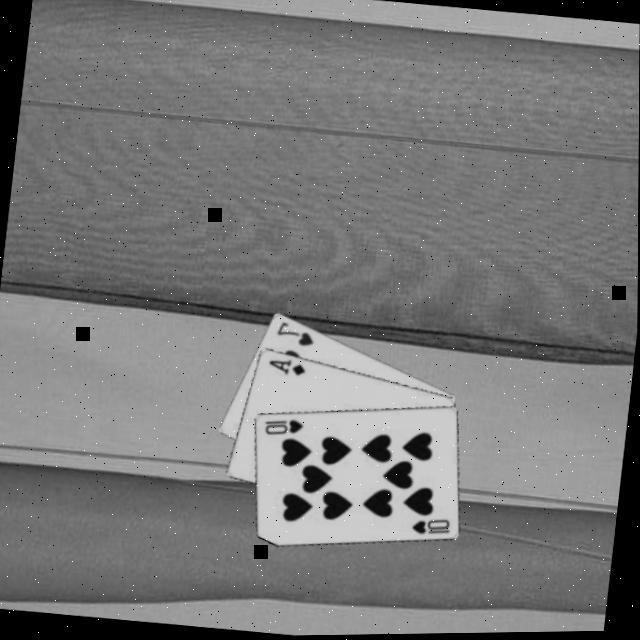10H: (262, 414, 308, 442), (410, 514, 456, 542)
7H: (274, 318, 320, 352)
AD: (267, 355, 311, 380)
